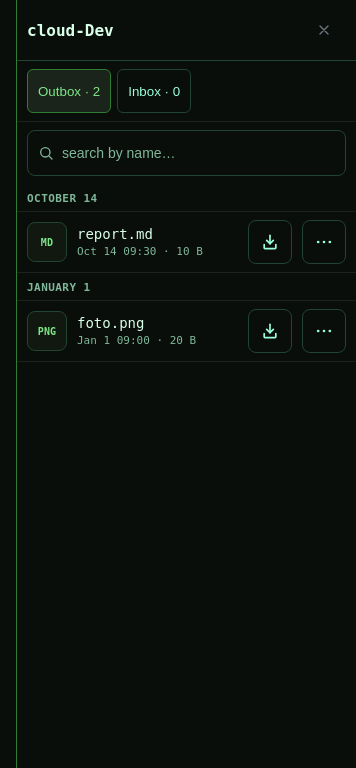
Test: FilesPanel ricerca per nome › nessun risultato: messo esplicito, svuotare ripristina
Expected: the text "report.md" is shown, [77,226,153,242]
Type "zzz" into the search field named "search files" at (198, 153), box [62,131,335,175]
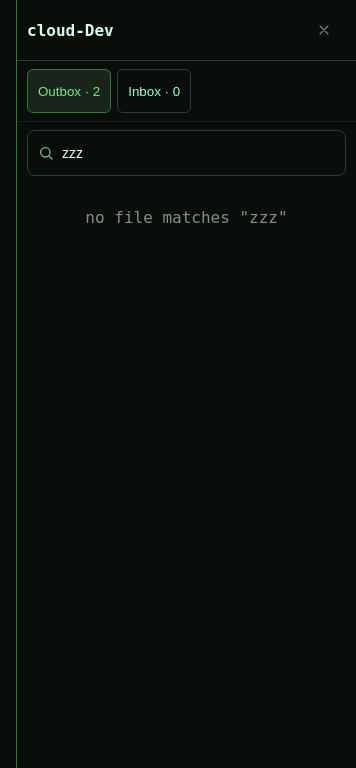
Expected: the text "no file matches \"zzz\"" is shown, [85,208,288,227]
Clear the search field named "search files" at (198, 153), box [62,131,335,175]
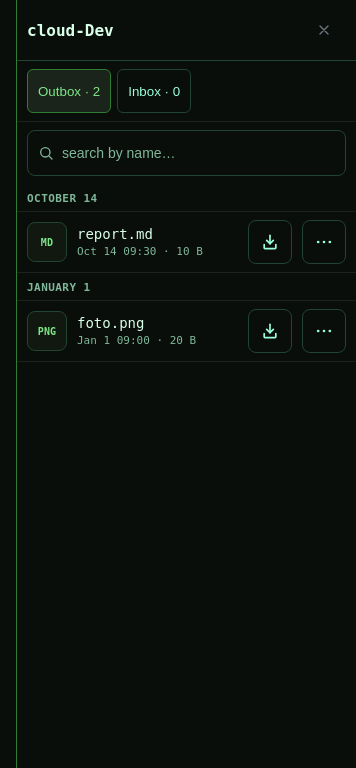
Expected: the text "report.md" is shown, [77,226,153,242]
Expected: the text "foto.png" is shown, [77,315,144,331]
